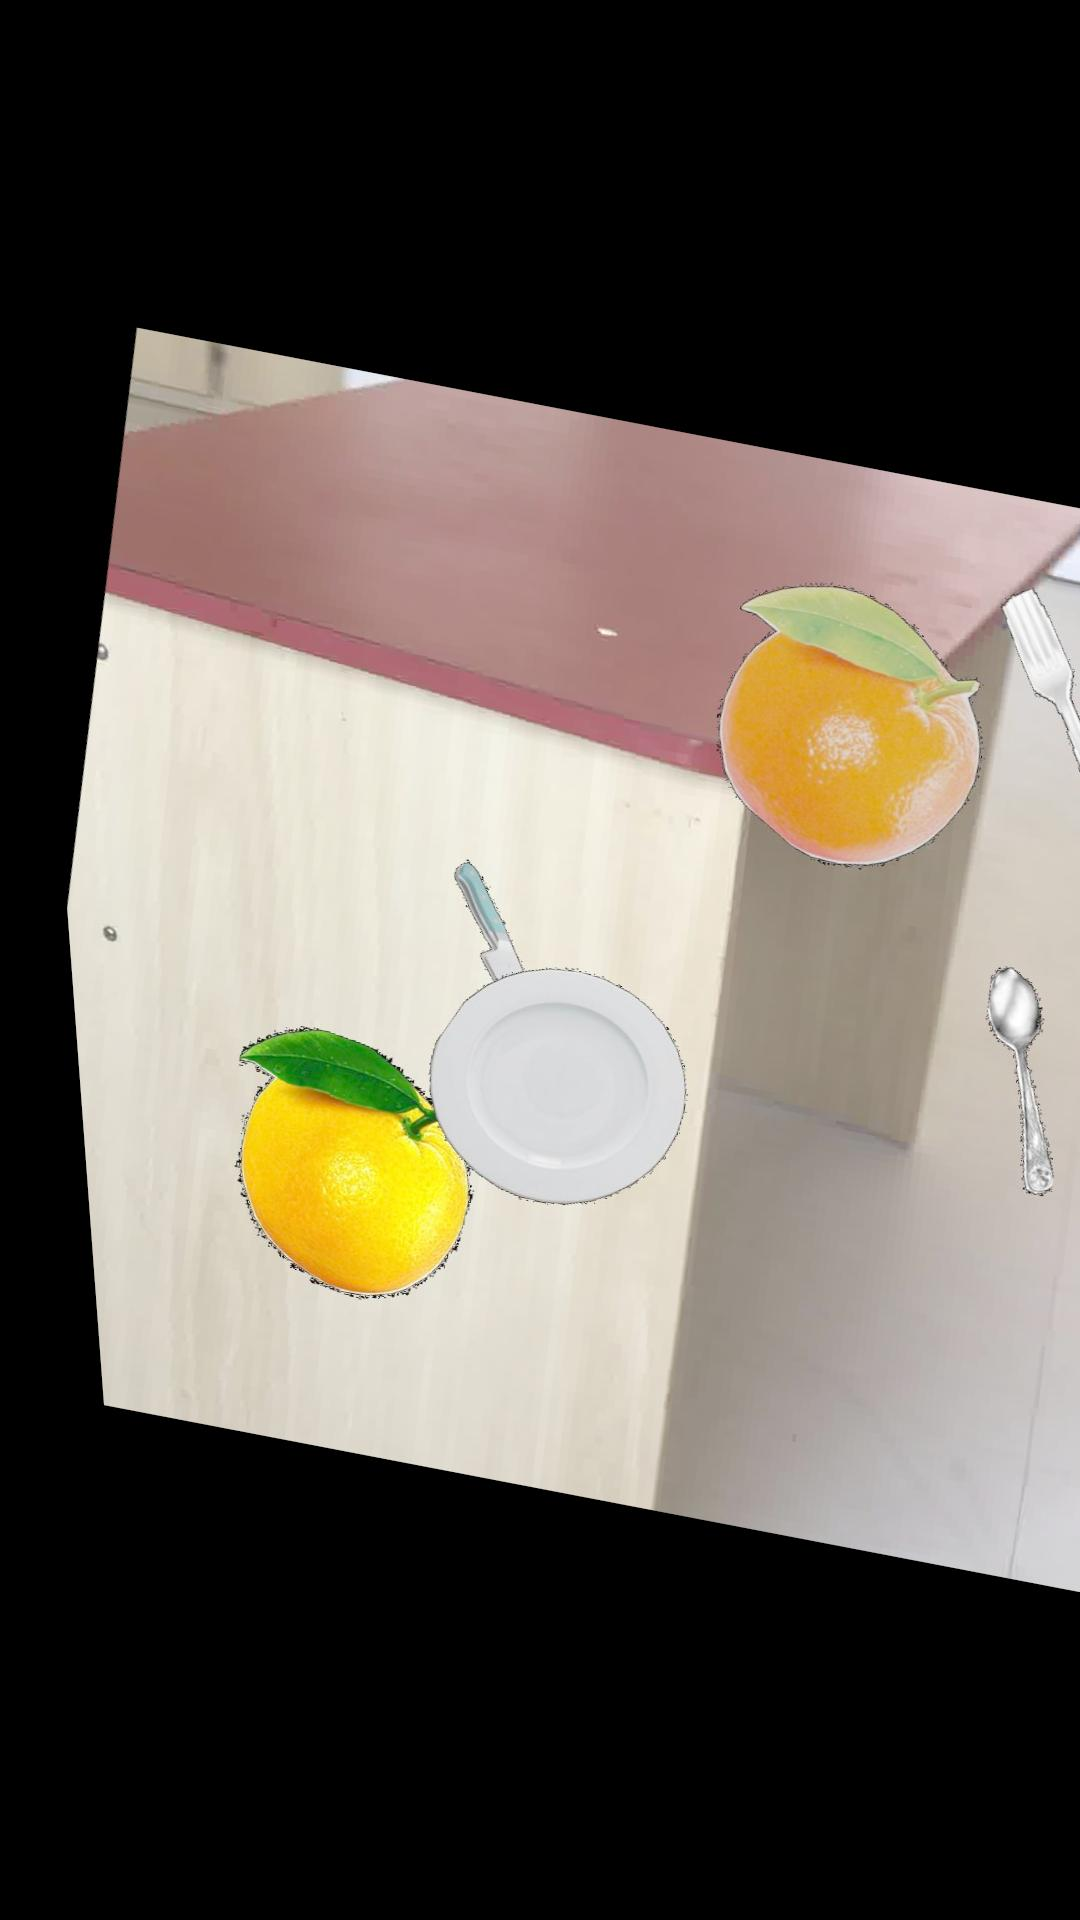fork: (993, 588, 1080, 808)
knife: (442, 862, 509, 982)
orange: (705, 587, 972, 868), (218, 1027, 455, 1300)
plate: (413, 968, 670, 1207)
spoon: (972, 968, 1036, 1197)
